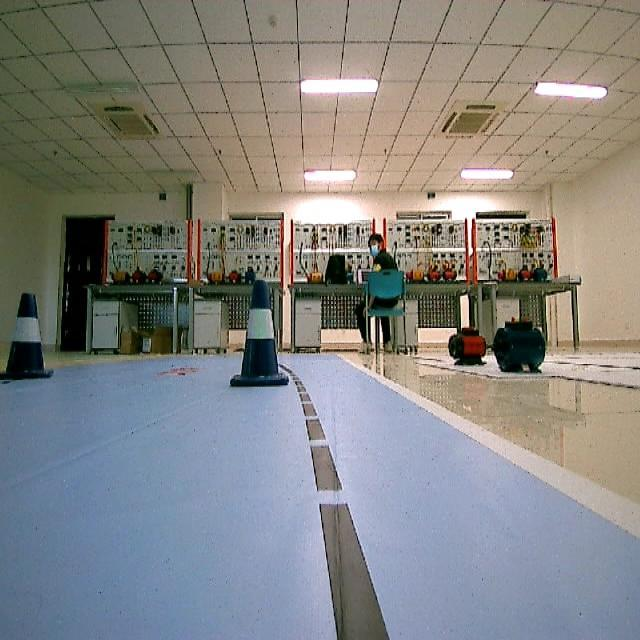obstacle: (224, 276, 302, 392), (0, 286, 57, 382)
